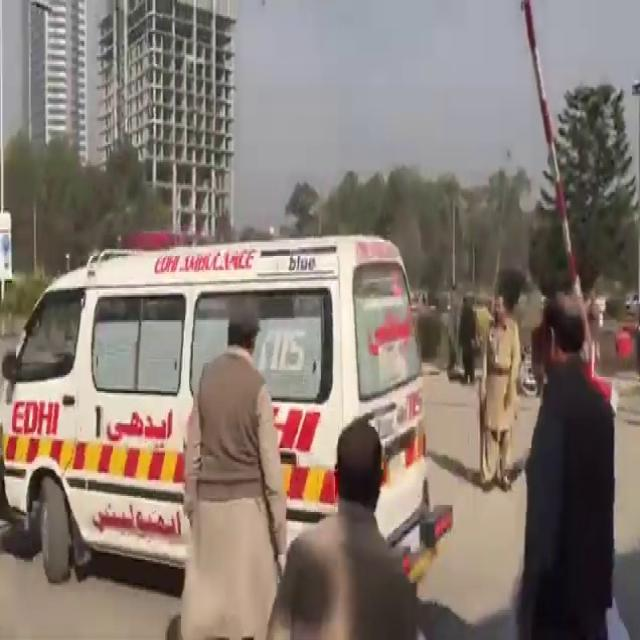ambulance: (4, 256, 439, 600)
